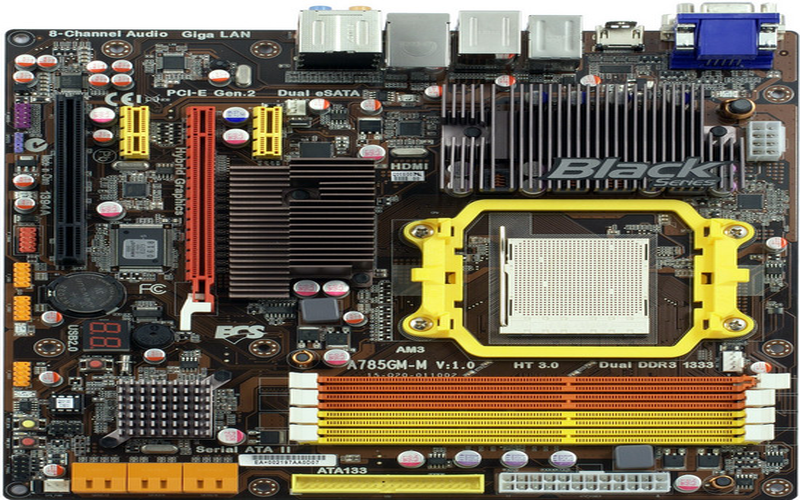Cirtuit-Board: (4, 15, 800, 500)
